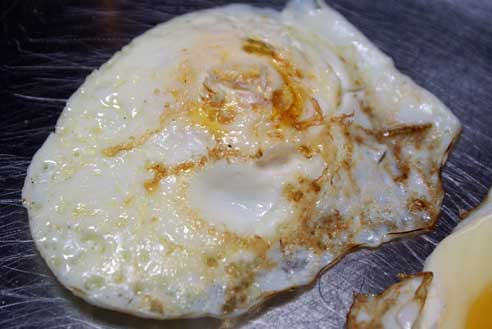fried_eggs: (21, 1, 463, 321)
